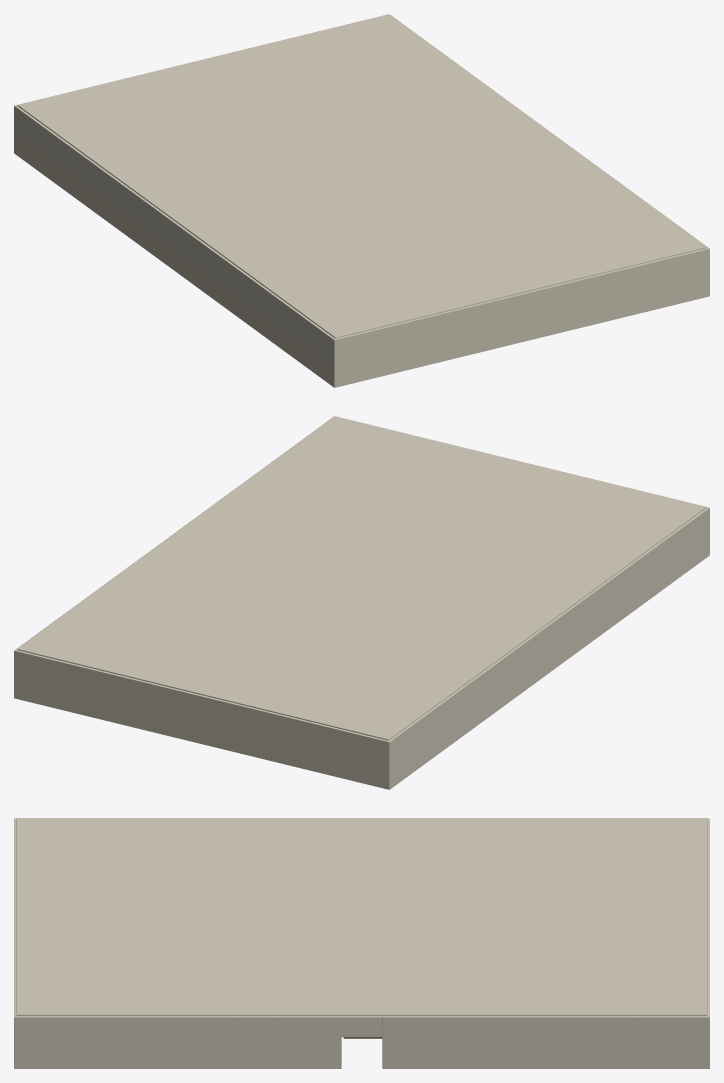
File: SOL_D12_directory_03_remaining_r001.glb
3 renders of one model, top to bottom at view 1: azimuth 30°, elevation 25°; view 2: azimuth 150°, elevation 25°; view 3: azimuth 270°, elevation 25°, orthographic. The views are drawn at different scales.
Parts seen in each view (by area): view 1: WP07_opaque_ceiling_cap, WP07_south_wall, WP07_west_acoustic_wall; view 2: WP07_opaque_ceiling_cap, WP07_north_wall, WP07_west_acoustic_wall; view 3: WP07_opaque_ceiling_cap, WP07_east_wall, WP07_east_wall.001, WP07_portal_head, WP07_north_wall, WP07_south_wall.
Part boxes in pixels (x1=…): WP07_opaque_ceiling_cap: x1=17, y1=14, x2=706, y2=338; WP07_south_wall: x1=336, y1=248, x2=707, y2=387; WP07_west_acoustic_wall: x1=14, y1=105, x2=338, y2=387; WP07_opaque_ceiling_cap: x1=17, y1=416, x2=706, y2=740; WP07_north_wall: x1=16, y1=650, x2=387, y2=788; WP07_west_acoustic_wall: x1=385, y1=507, x2=709, y2=789; WP07_opaque_ceiling_cap: x1=16, y1=818, x2=707, y2=1015; WP07_east_wall: x1=14, y1=1015, x2=341, y2=1068; WP07_east_wall.001: x1=382, y1=1015, x2=709, y2=1068; WP07_portal_head: x1=341, y1=1016, x2=382, y2=1037; WP07_north_wall: x1=707, y1=819, x2=709, y2=1015; WP07_south_wall: x1=14, y1=819, x2=16, y2=1015.
Size of the model in its own units: 46 by 5.75 by 68.
Materials: 20 (18 with a texture image).
